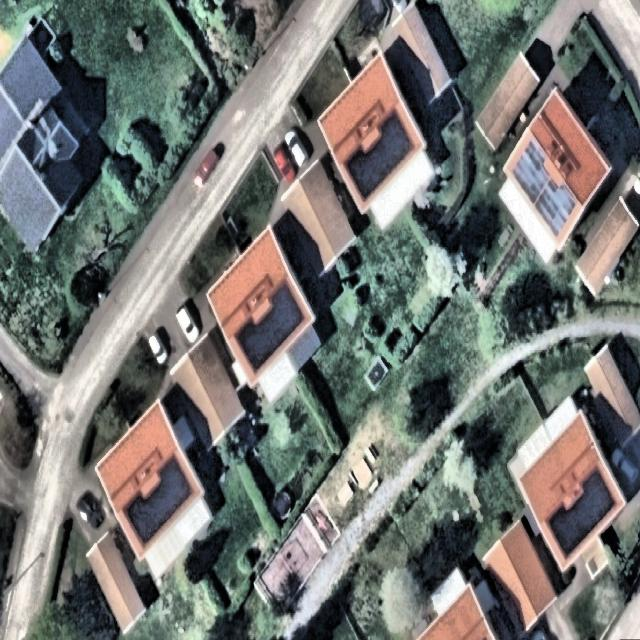roof_pv: (154, 452, 197, 528), (268, 274, 307, 356), (530, 176, 578, 242), (378, 103, 416, 183), (579, 463, 618, 537), (542, 501, 589, 562), (340, 142, 386, 204), (121, 491, 166, 554), (508, 140, 550, 207), (232, 314, 274, 376)
